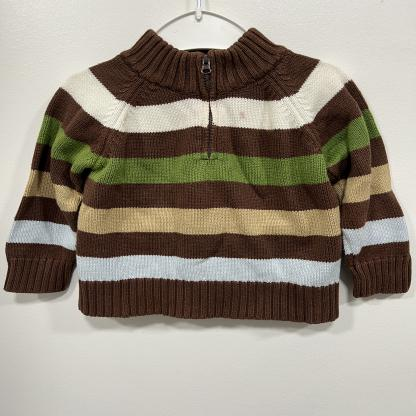stain: (236, 110, 249, 121)
